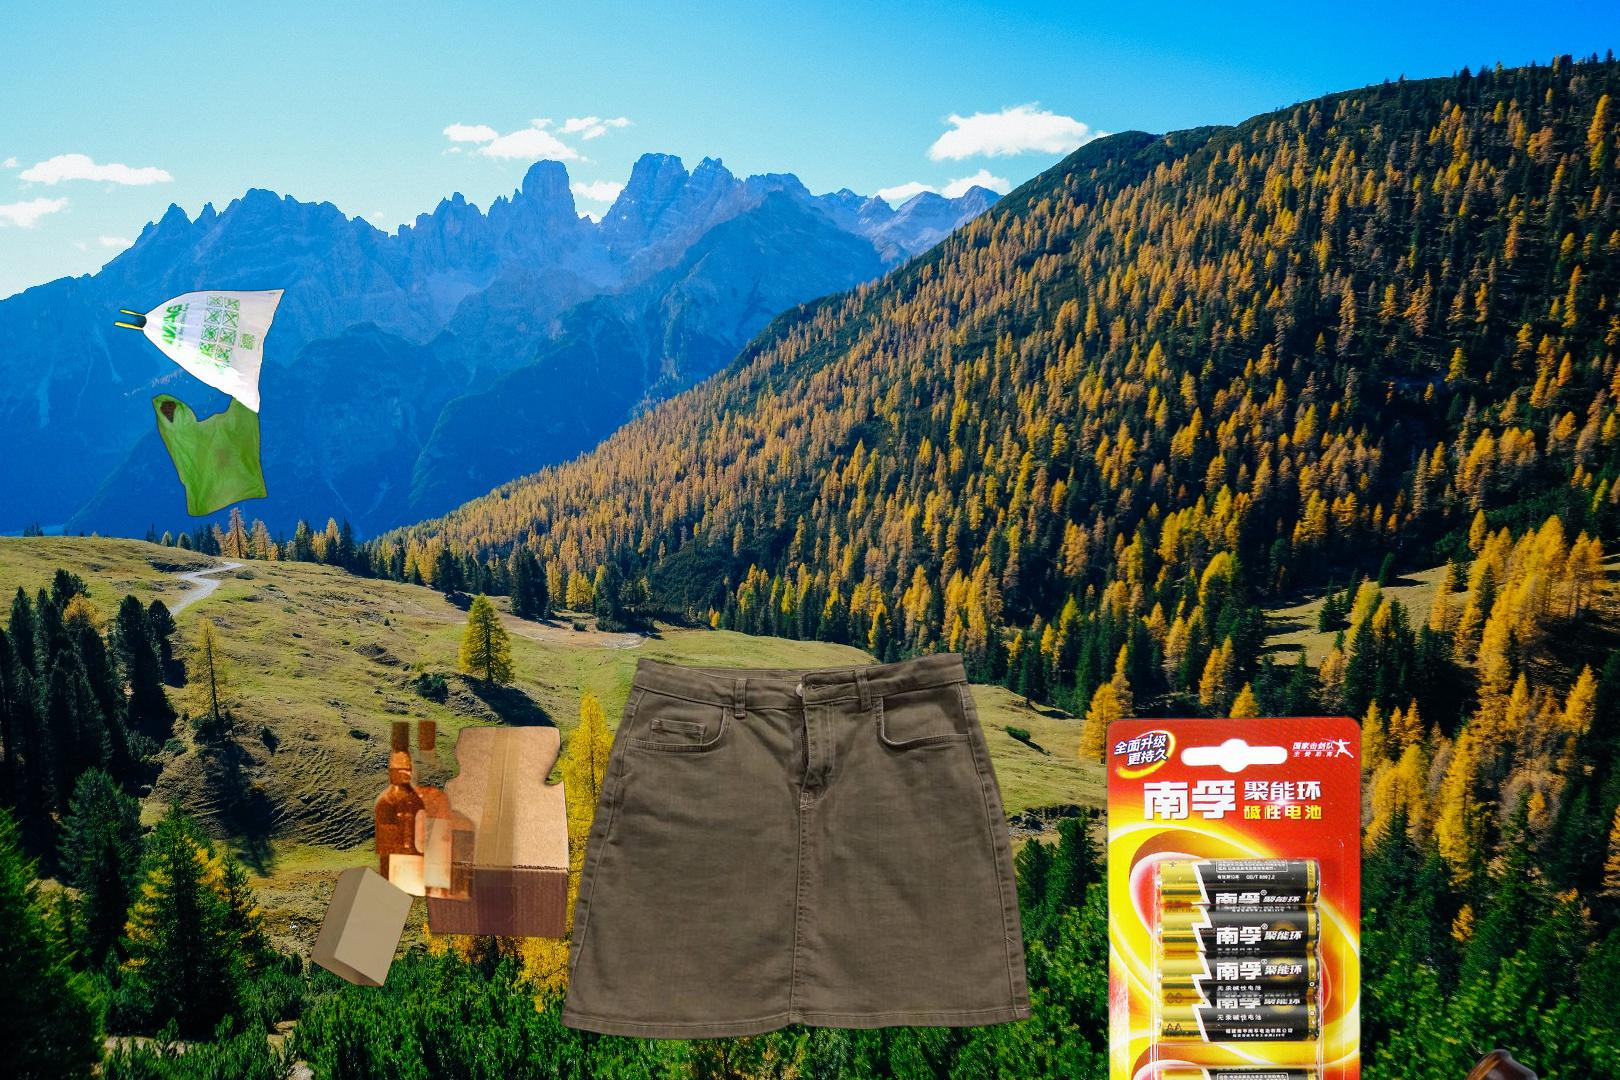battery: (1100, 711, 1366, 1080)
clothes: (554, 653, 1038, 1043)
glass: (1456, 1045, 1620, 1080)
paper-bag: (307, 702, 557, 990)
plastic-bag: (111, 286, 288, 520)
trashbox-cardboard: (421, 714, 583, 945)
